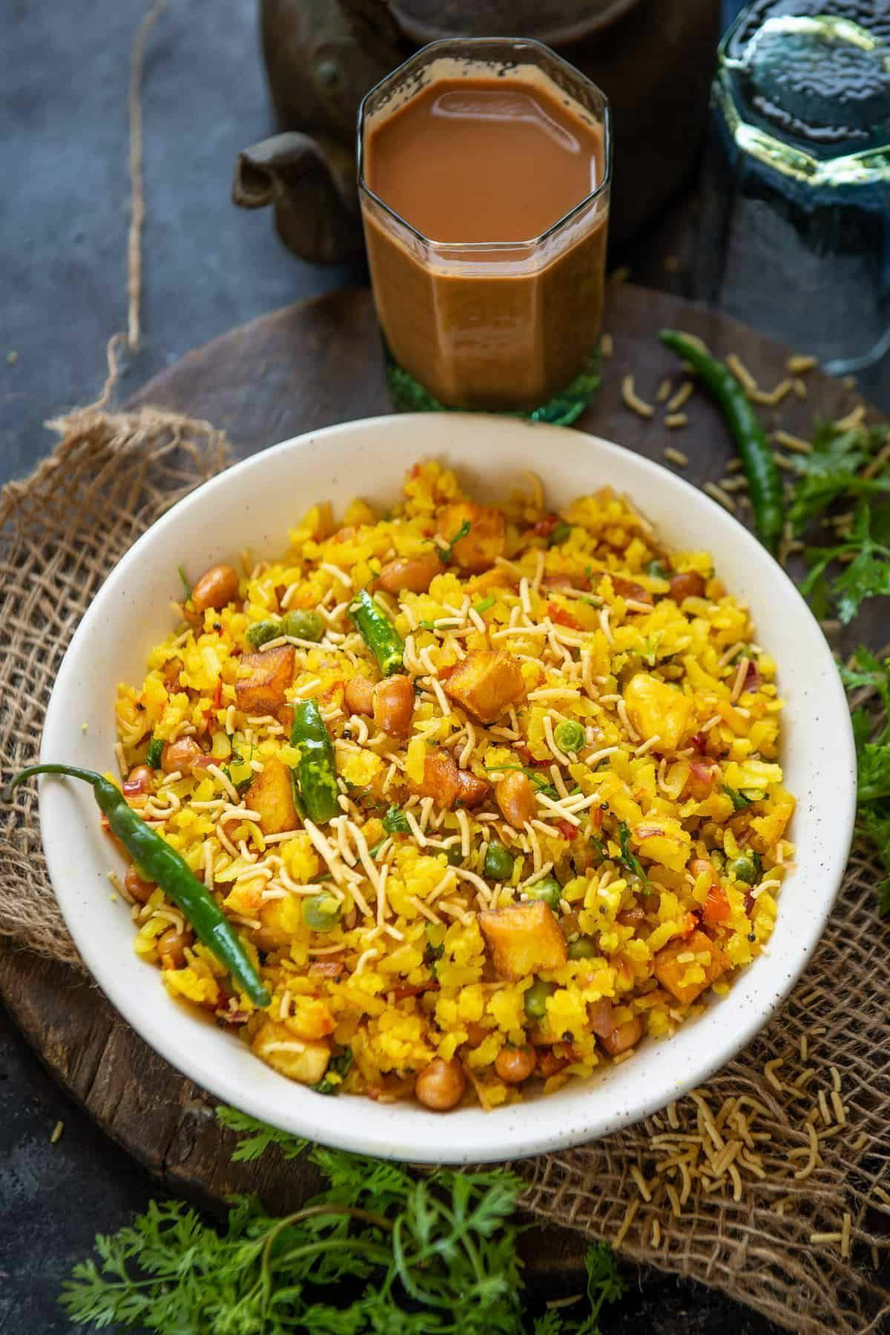Poha: (107, 458, 800, 1109)
